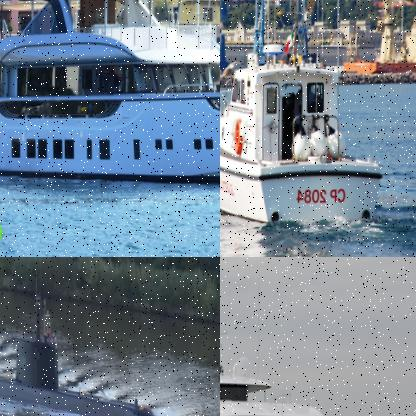Patrol Boat: (220, 0, 390, 226)
Submarine: (0, 292, 160, 415)
Yacht: (0, 0, 219, 187), (220, 273, 414, 415)
